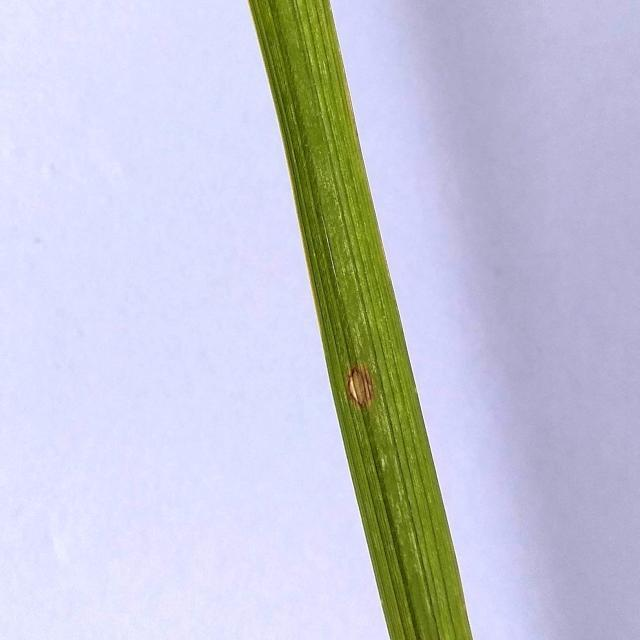Blast: (343, 371, 384, 408)
